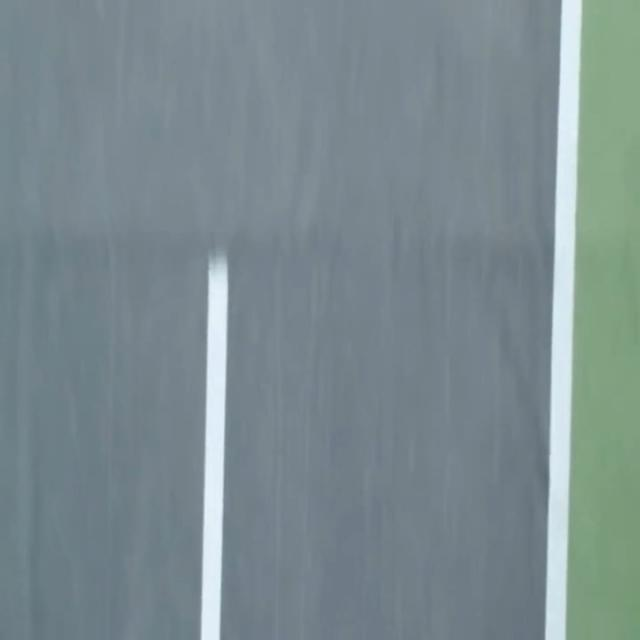center: (199, 255, 228, 639)
right: (545, 0, 581, 639)
